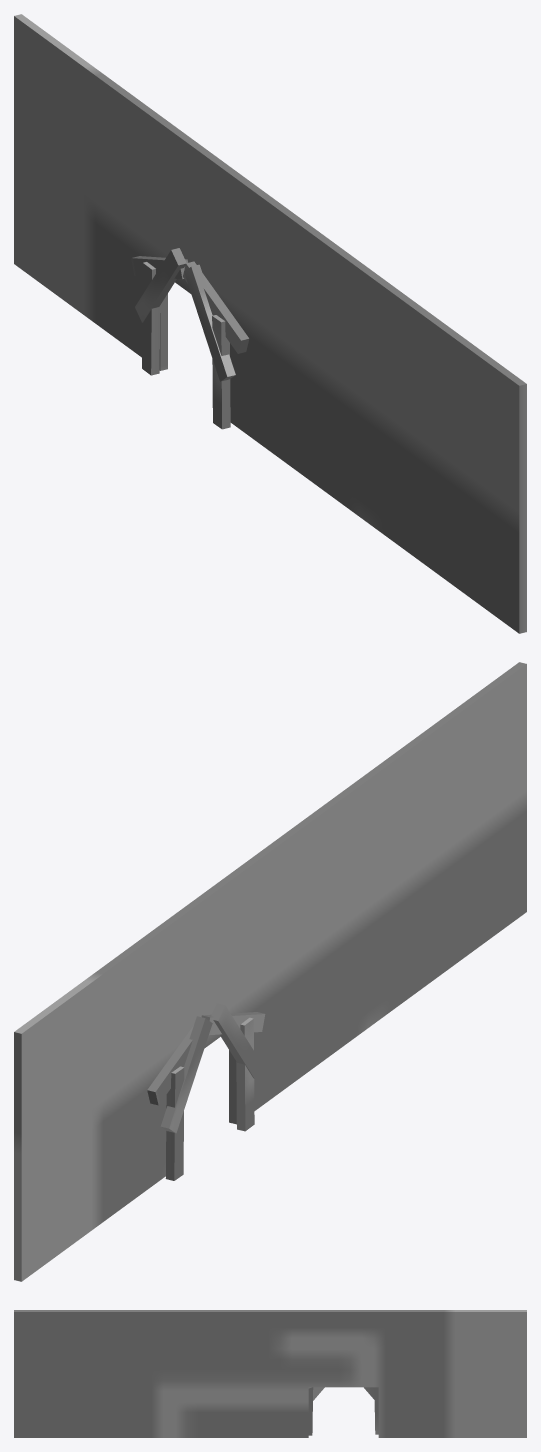
Rendered from wall_CaveExit.fbx.
3 views of the same model, one above another, from view 1: azimuth 30°, elevation 25°; view 2: azimuth 150°, elevation 25°; view 3: azimuth 270°, elevation 25° (orthographic). The views are drawn at different scales.
Parts seen in each view (by area): view 1: wall_CaveExit; view 2: wall_CaveExit; view 3: wall_CaveExit.
Part boxes in pixels (x1=…): wall_CaveExit: x1=14, y1=14, x2=526, y2=633; wall_CaveExit: x1=14, y1=662, x2=526, y2=1281; wall_CaveExit: x1=14, y1=1310, x2=526, y2=1437.
Bounding box in the file's own units: 165 × 1879 × 6904.
